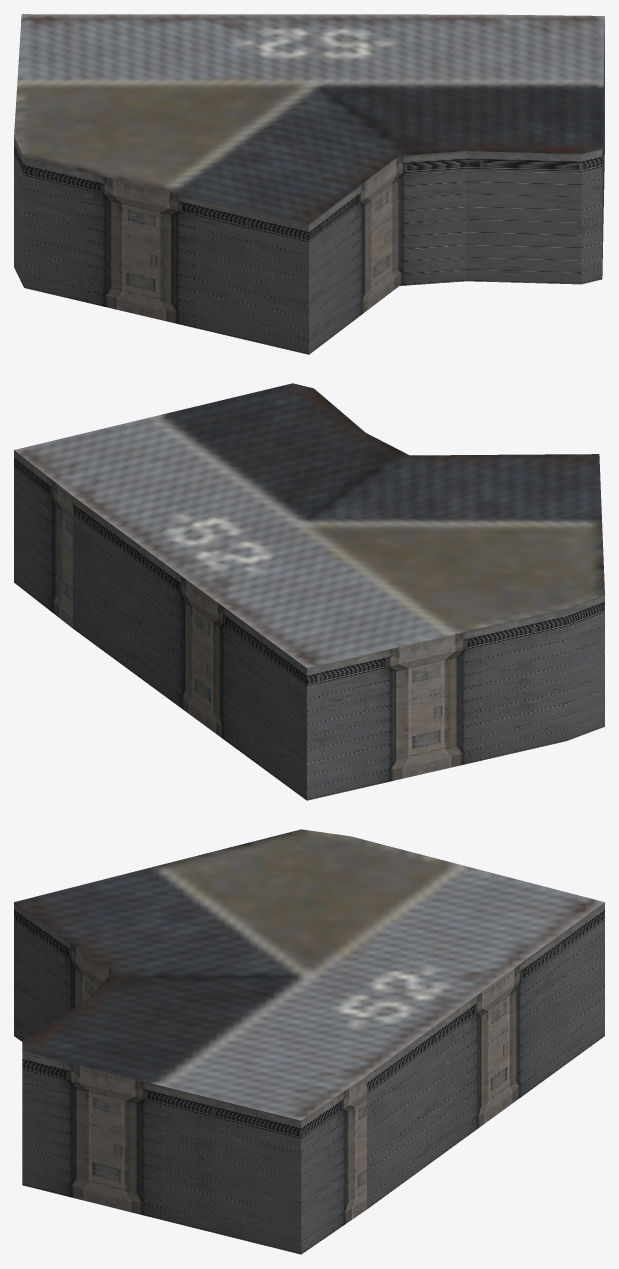
Rendered from hangar_light_52.glb.
3 renders of one model, top to bottom at view 1: azimuth 30°, elevation 25°; view 2: azimuth 150°, elevation 25°; view 3: azimuth 270°, elevation 25°, orthographic. The views are drawn at different scales.
Visible parts, largest first — view 1: buildings/saxarba/hangar_light/hangar_light_52; view 2: buildings/saxarba/hangar_light/hangar_light_52; view 3: buildings/saxarba/hangar_light/hangar_light_52.
Boxes of the visible parts, box(x1,y1,x2,y2) form: buildings/saxarba/hangar_light/hangar_light_52: box(14, 14, 604, 354); buildings/saxarba/hangar_light/hangar_light_52: box(14, 383, 604, 800); buildings/saxarba/hangar_light/hangar_light_52: box(14, 829, 604, 1254).
Size of the model in its own units: 84 by 18 by 72.
